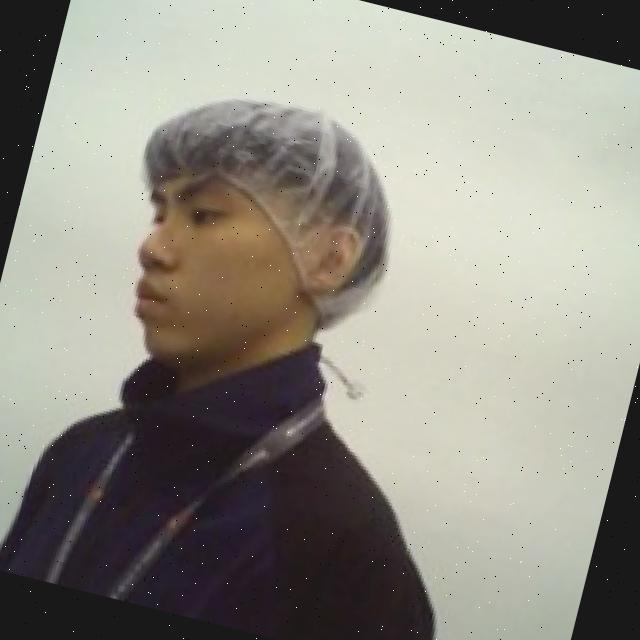gloves: (105, 62, 428, 347)
no_hairnet: (106, 170, 378, 407)
